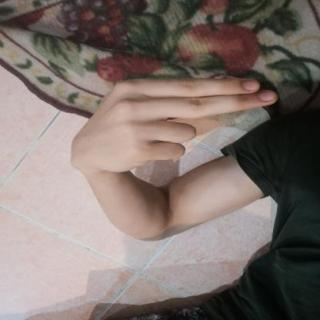AYN: (59, 70, 296, 183)
